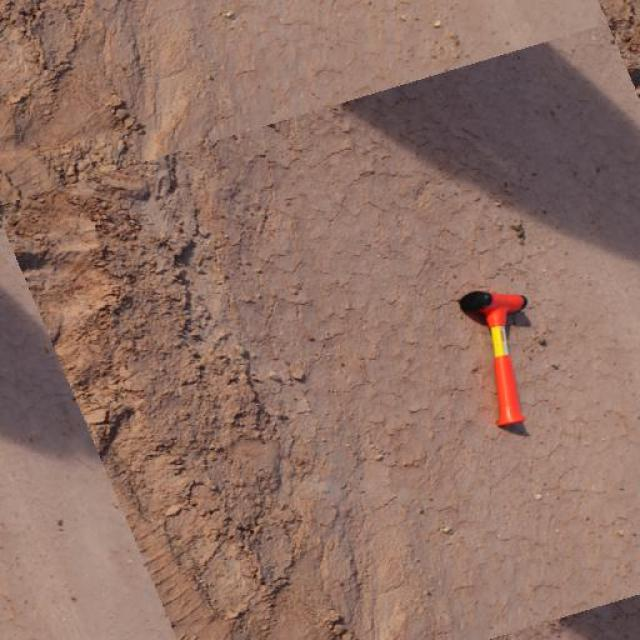mallet: (456, 289, 532, 429)
